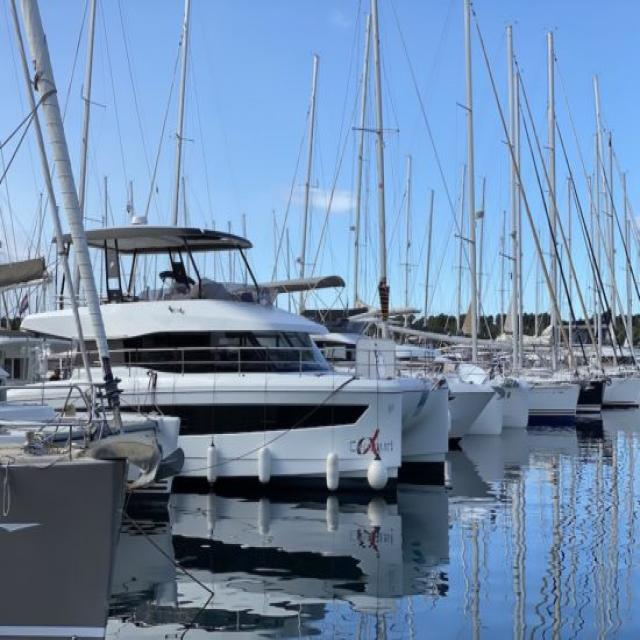houseboat: (14, 190, 419, 470)
